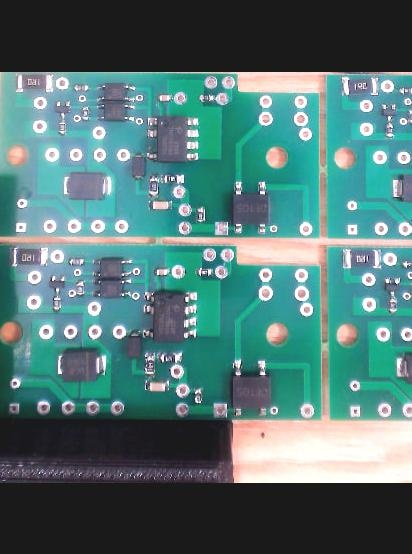chip-capacitor: (144, 377, 171, 392), (146, 198, 173, 212), (153, 266, 171, 276), (156, 92, 173, 101)
chip-resistor: (8, 245, 49, 267), (342, 247, 383, 269), (14, 72, 56, 93), (340, 74, 380, 96), (157, 350, 184, 363), (148, 171, 160, 197), (160, 172, 186, 184), (144, 351, 156, 376), (194, 204, 206, 223), (195, 266, 214, 277), (52, 294, 63, 312), (387, 296, 398, 314), (73, 81, 91, 92), (193, 386, 204, 403), (384, 121, 395, 138), (68, 256, 86, 266), (57, 118, 67, 136), (76, 279, 85, 297), (197, 92, 215, 101), (81, 103, 90, 120), (397, 85, 412, 95), (400, 257, 412, 268), (407, 106, 412, 125)
diode: (56, 346, 107, 383), (63, 170, 113, 200), (391, 172, 412, 202), (395, 350, 412, 385), (127, 327, 142, 360), (131, 150, 146, 180)
ic: (141, 288, 198, 343), (146, 113, 201, 162), (230, 358, 272, 416), (229, 179, 271, 234), (92, 277, 133, 298), (92, 257, 133, 277), (96, 101, 136, 121), (96, 82, 136, 101)
transistor: (382, 274, 403, 296), (48, 272, 67, 293), (379, 101, 398, 121), (54, 98, 71, 118)
